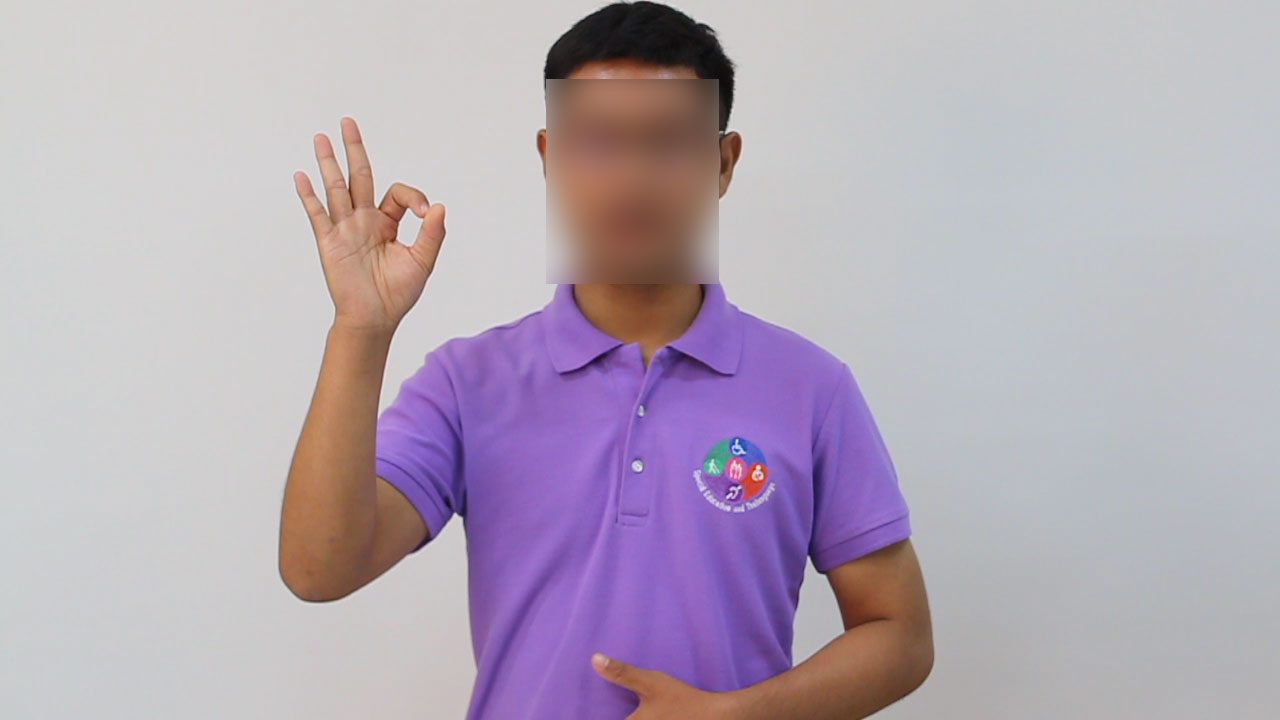for: (285, 108, 453, 352)
